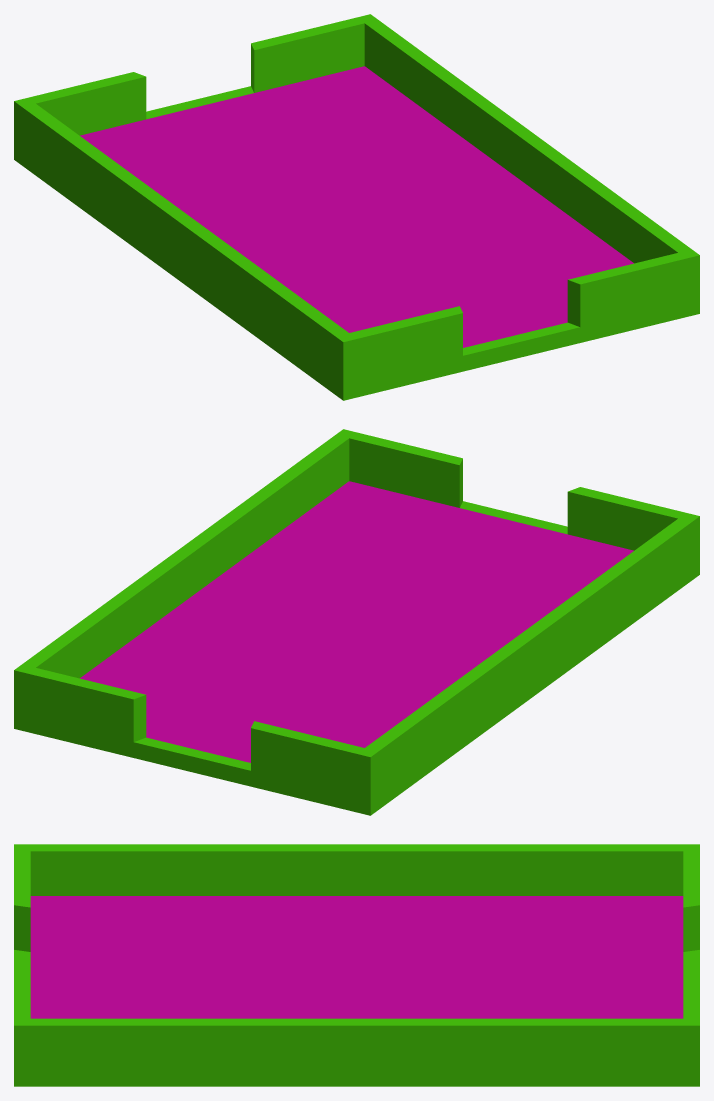
Rendered from Salle.fbx.
3 renders of one model, top to bottom at view 1: azimuth 30°, elevation 25°; view 2: azimuth 150°, elevation 25°; view 3: azimuth 270°, elevation 25°, orthographic. The views are drawn at different scales.
Visible parts, largest first — view 1: Box001; view 2: Box001; view 3: Box001.
Part boxes in pixels (<box>): Box001: <box>14,14,699,400</box>; Box001: <box>14,429,699,815</box>; Box001: <box>14,844,699,1086</box>.
Bounding box in the file's own units: 15.67 × 2.46 × 25.07.
